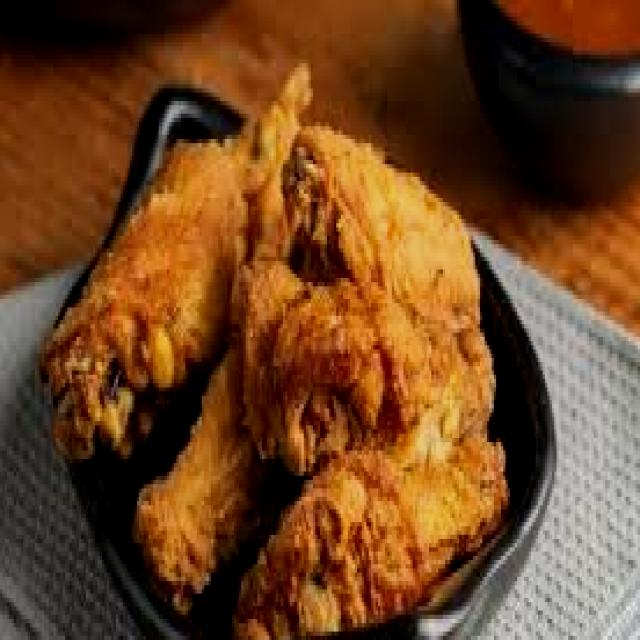ayam_goreng: (58, 81, 509, 637), (255, 142, 491, 608), (64, 62, 296, 438)
